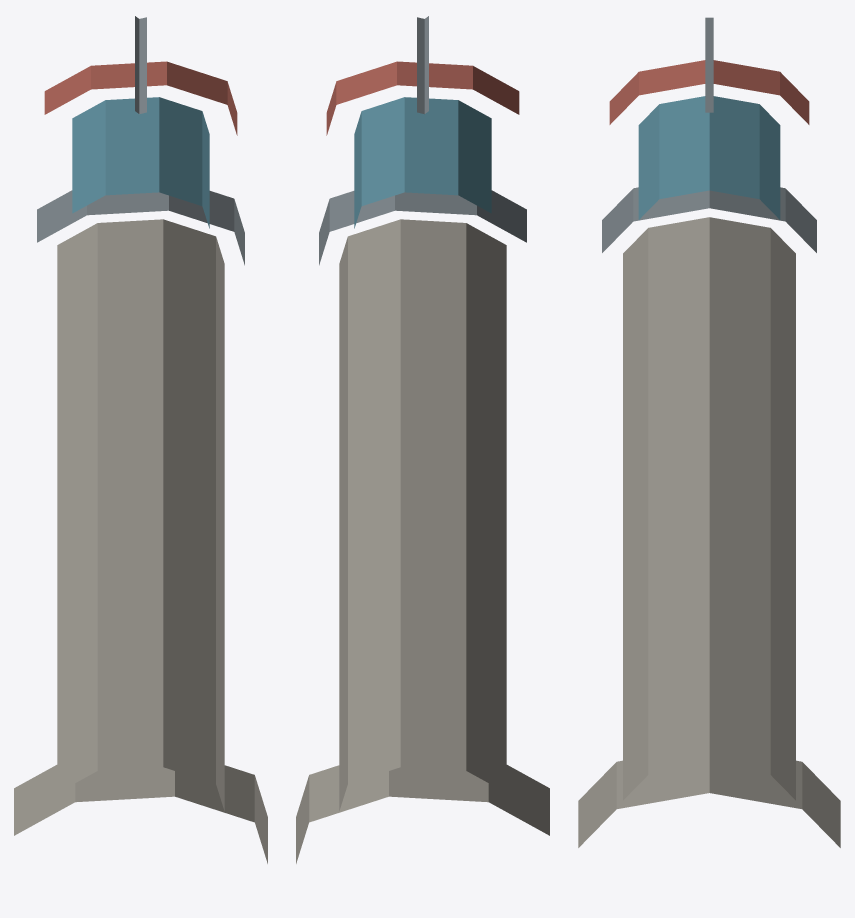
The model's file is lighthouse_low.glb.
3 views of the same model, side by side, from view 1: azimuth 30°, elevation 25°; view 2: azimuth 150°, elevation 25°; view 3: azimuth 270°, elevation 25° (orthographic).
Parts seen in each view (by area): view 1: lighthouse low; view 2: lighthouse low; view 3: lighthouse low.
Part boxes in pixels (bbox=[...]): lighthouse low: bbox=[14, 16, 267, 863]; lighthouse low: bbox=[296, 16, 549, 863]; lighthouse low: bbox=[578, 17, 840, 847].
Bounding box in the file's own units: 10 × 35 × 10.
